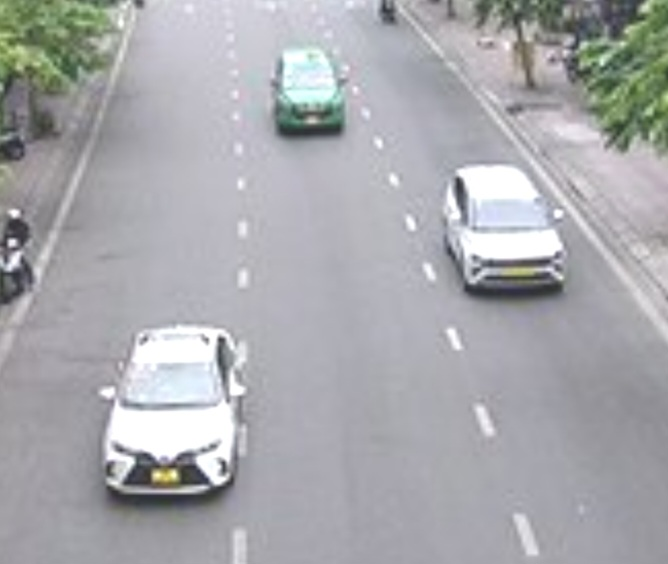car: (101, 326, 244, 500), (442, 160, 570, 299), (270, 44, 348, 141)
